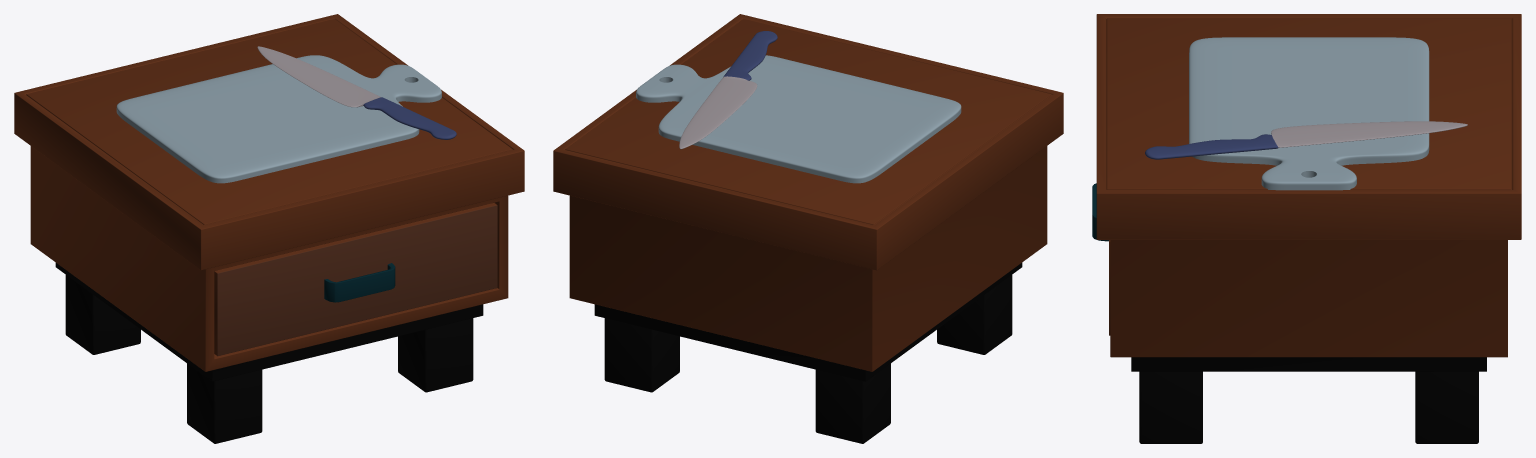
File: table_cuttingboard.fbx
The picture shows the model from 3 angles, left to right: view 1: azimuth 30°, elevation 25°; view 2: azimuth 150°, elevation 25°; view 3: azimuth 270°, elevation 25°; orthographic projection. The views are drawn at different scales.
Visible parts, largest first — view 1: meja.001, talenan, meja_kaki.001, knife; view 2: meja.001, talenan, meja_kaki.001, knife; view 3: meja.001, talenan, meja_kaki.001, knife.
Boxes of the visible parts, x1,y1,x2,y2 form: meja.001: (14,14,524,381); talenan: (116,55,441,183); meja_kaki.001: (65,275,473,443); knife: (257,46,456,139); meja.001: (553,14,1063,381); talenan: (636,55,961,183); meja_kaki.001: (604,275,1012,443); knife: (679,31,777,149); meja.001: (1092,14,1521,371); talenan: (1189,37,1429,190); meja_kaki.001: (1139,371,1478,443); knife: (1145,121,1467,159).
Size of the model in its own units: 100 by 73.33 by 101.
